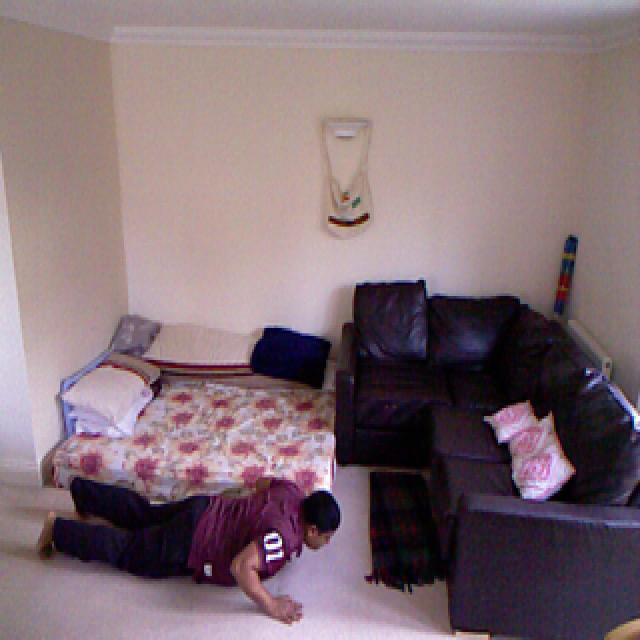Fall: (30, 442, 369, 640)
